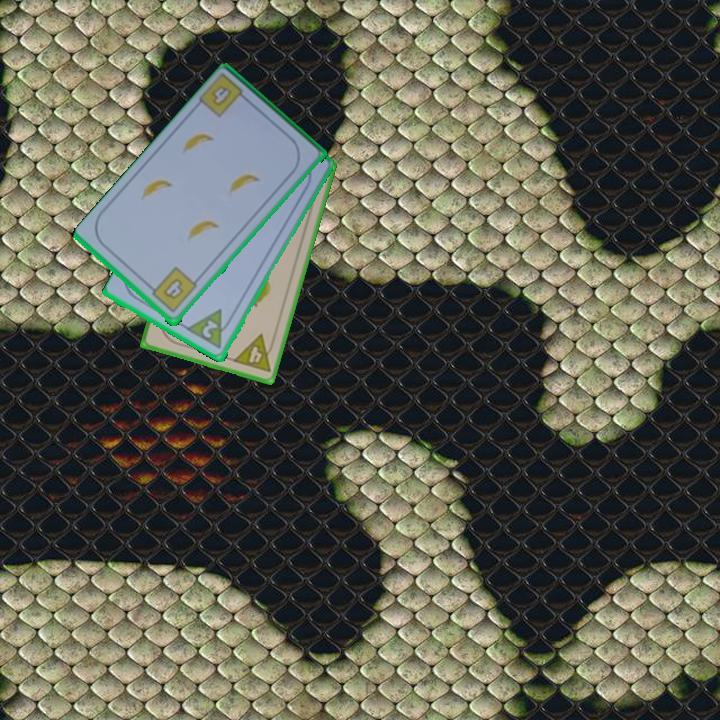2p: (199, 317, 221, 342)
4b: (145, 264, 200, 316), (196, 71, 253, 121)
4p: (229, 331, 278, 376)
